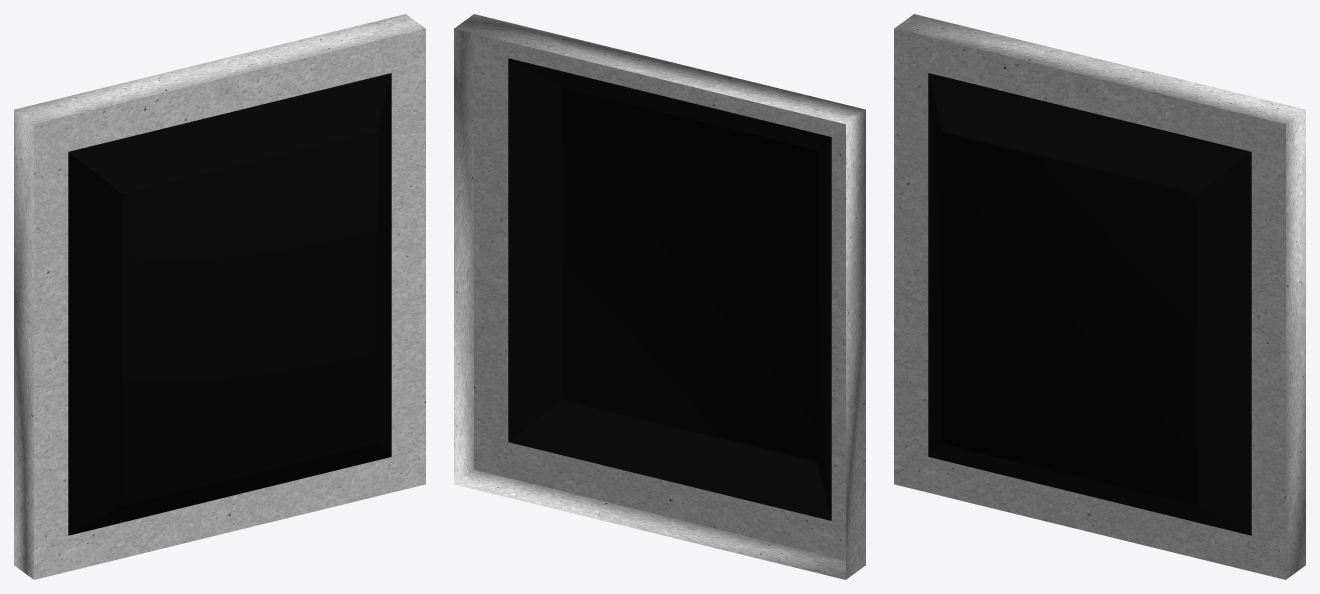
The model's file is ModularWall_004.FBX.
The picture shows the model from 3 angles, left to right: view 1: azimuth 30°, elevation 25°; view 2: azimuth 150°, elevation 25°; view 3: azimuth 330°, elevation 25°; orthographic projection.
Parts seen in each view (by area): view 1: ModularWall_004; view 2: ModularWall_004; view 3: ModularWall_004.
Boxes of the visible parts, left/top/right/bottom form: ModularWall_004: left=14, top=14, right=425, bottom=579; ModularWall_004: left=454, top=14, right=865, bottom=579; ModularWall_004: left=894, top=14, right=1305, bottom=579.
Bounding box in the file's own units: 22.86 × 25.4 × 4.03.
